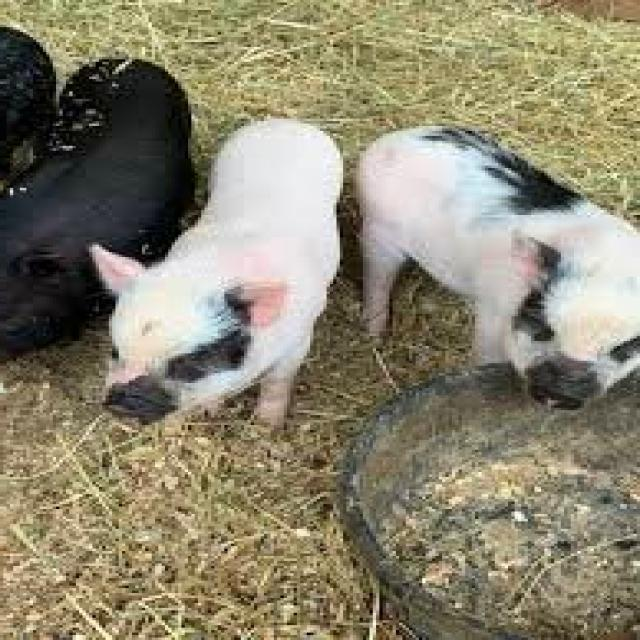pig: (92, 119, 343, 423), (360, 126, 640, 388)
